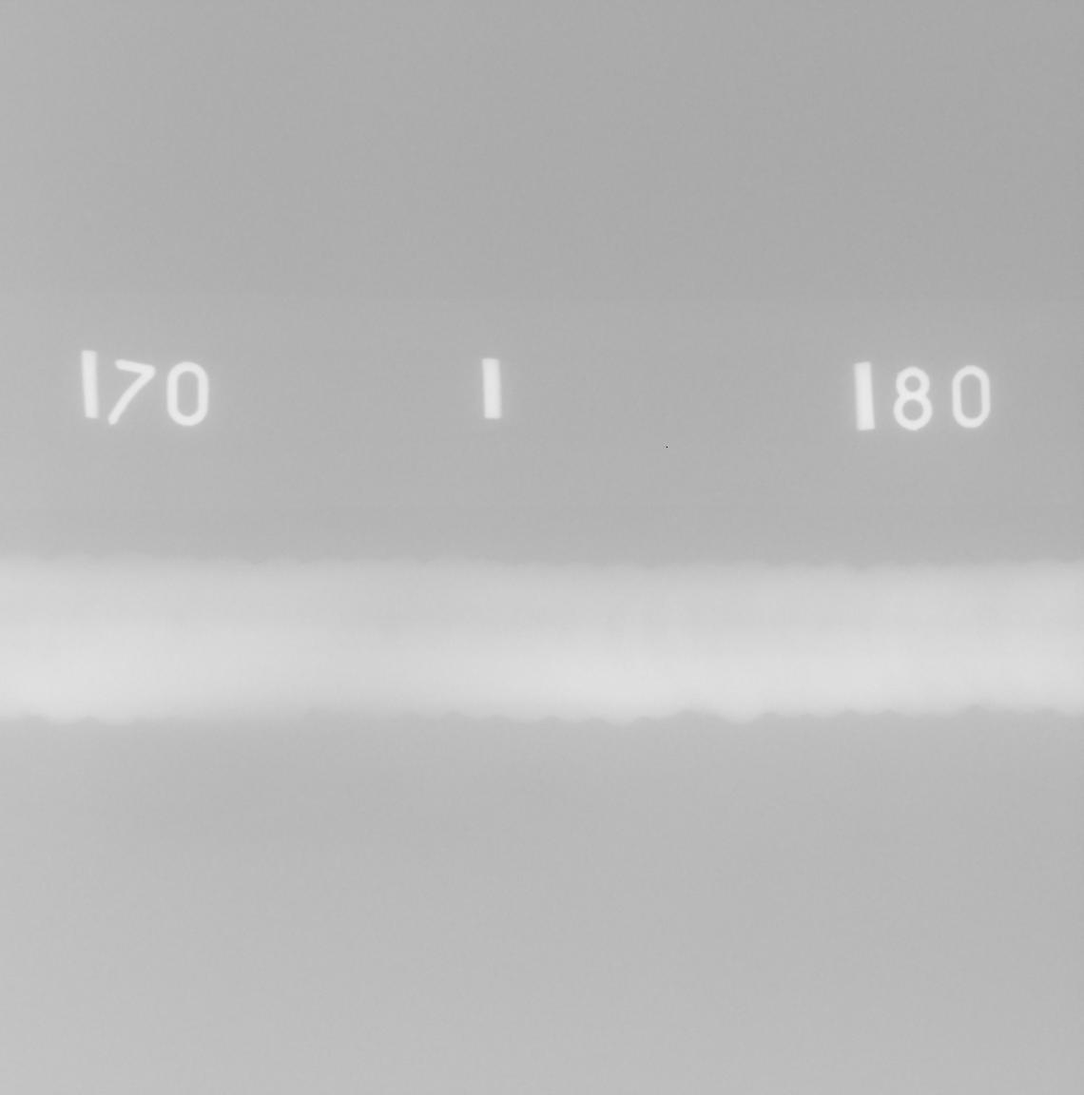Pore/Porosity: (986, 616, 991, 620)
